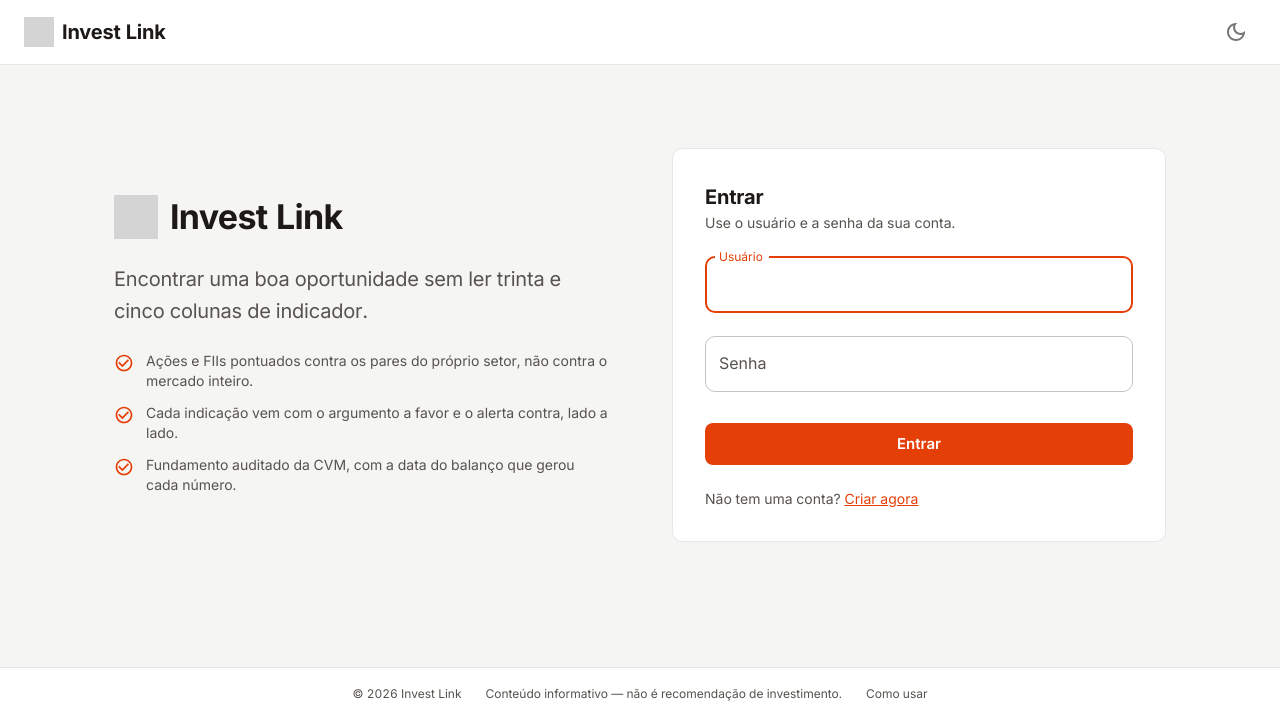
Test: Autenticação › campos obrigatórios são validados antes de submeter
Click the submit button. click: (919, 444)
box: [705,423,1133,465]
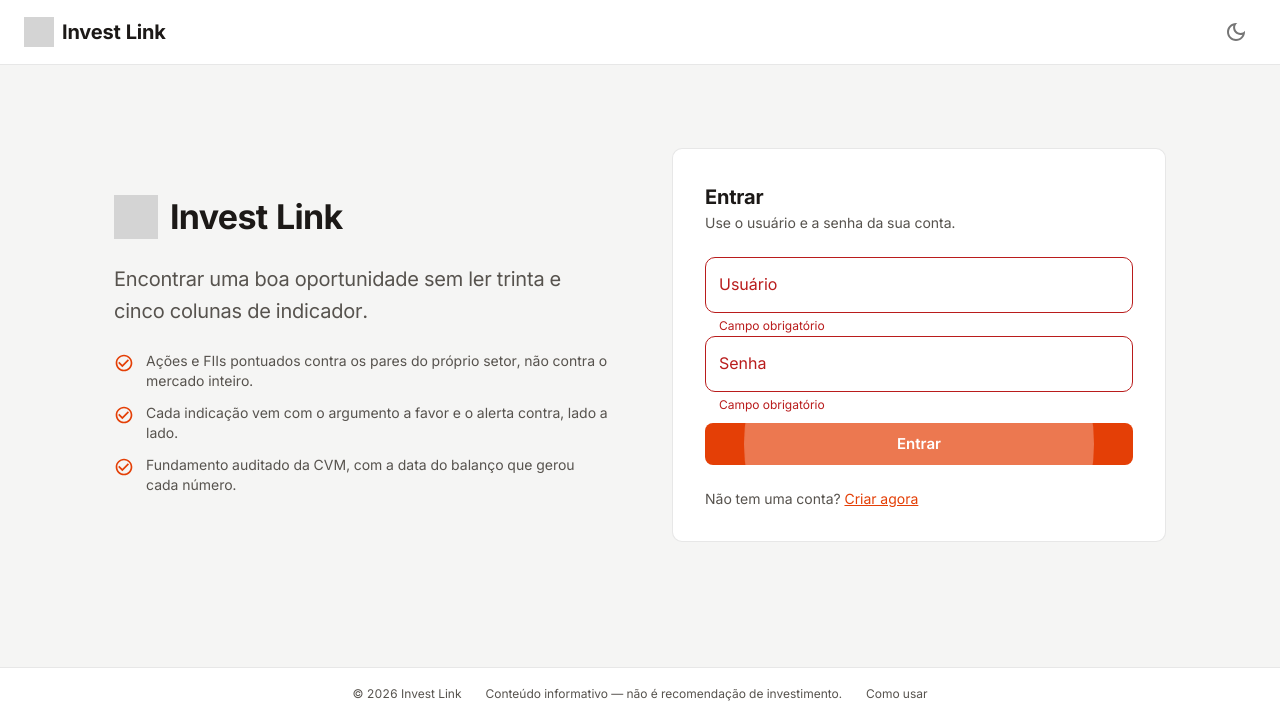
Result: the 1st text "Campo obrigatório" is shown at [719,318,825,333]
